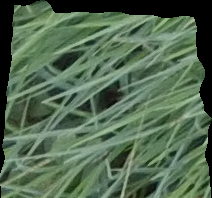grass: (1, 1, 211, 197)
